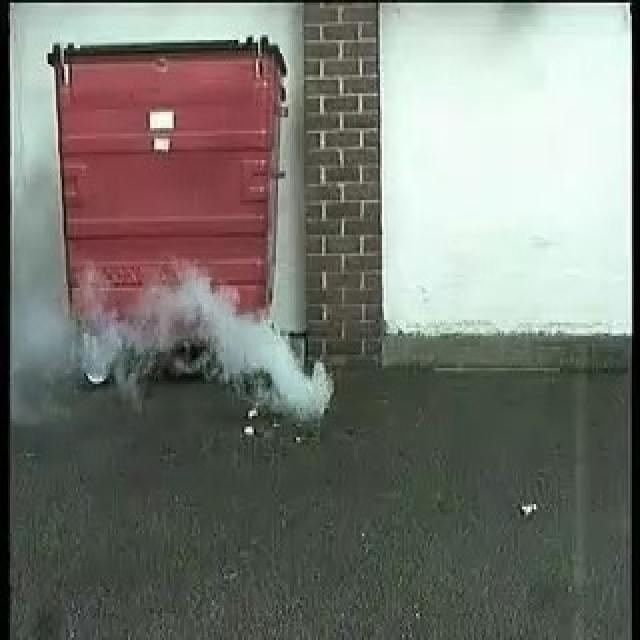Smoke: (85, 265, 334, 414)
